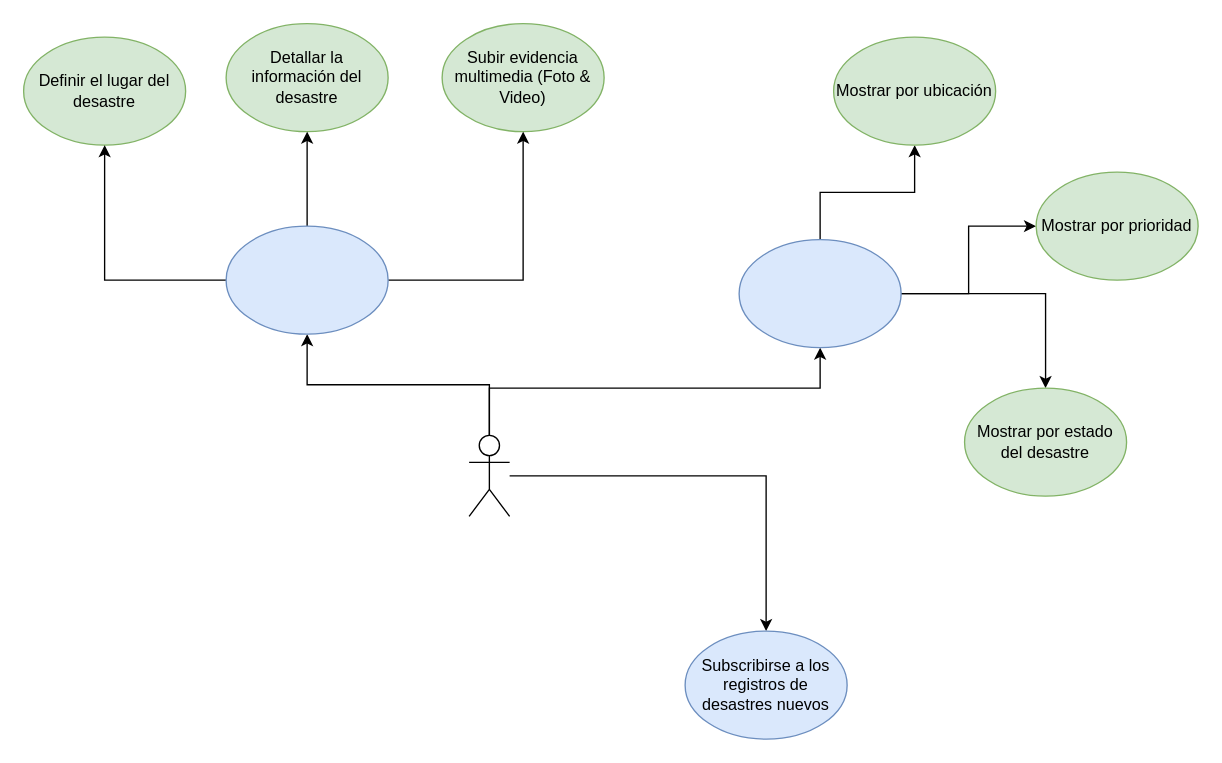
Image size: 1222x763. Some labels were removed from this diagram. Here are the shapes that lost their labels. From the top down, the centre of each, then its label:
point 306,279: Crear un nuevo registro de desastre
point 819,293: Mostrar los registros de desastres
point 489,475: HackOcean
